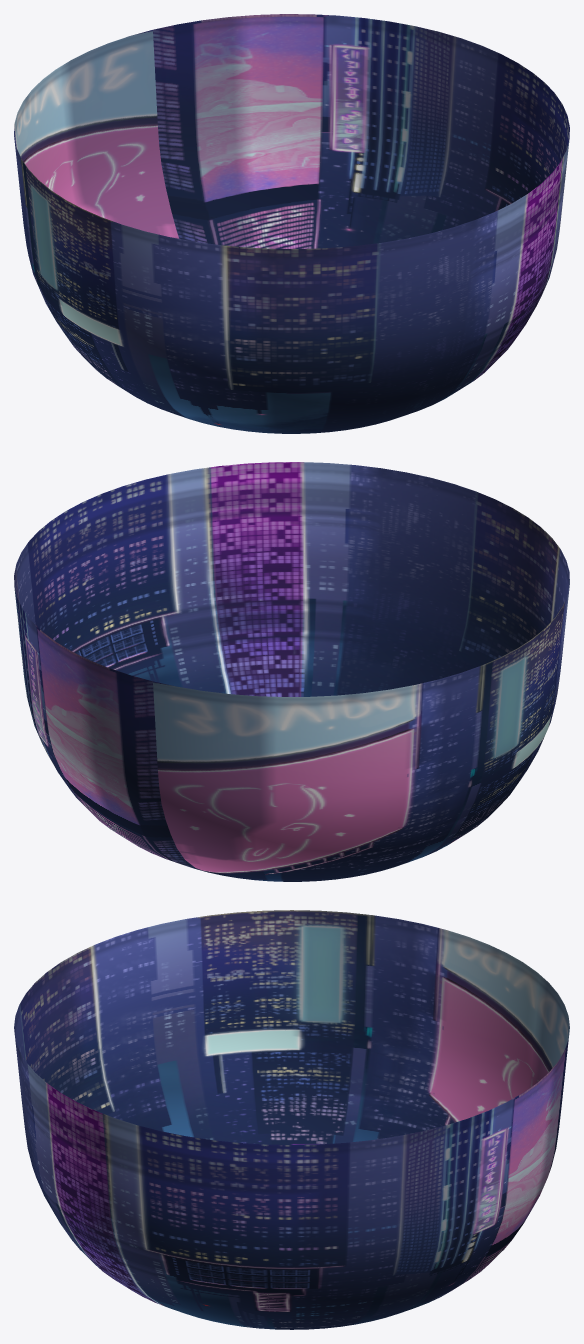
Rendered from Backgroud_flp.fbx.
3 views of the same model, one above another, from view 1: azimuth 30°, elevation 25°; view 2: azimuth 150°, elevation 25°; view 3: azimuth 270°, elevation 25° (orthographic).
Visible parts, largest first — view 1: Sphere; view 2: Sphere; view 3: Sphere.
Boxes of the visible parts, x1,y1,x2,y2 form: Sphere: (14,14,569,433); Sphere: (14,462,569,881); Sphere: (14,910,569,1329).
Bounding box in the file's own units: 2750 × 1453 × 2750.
Materials: 1 (1 with a texture image).
